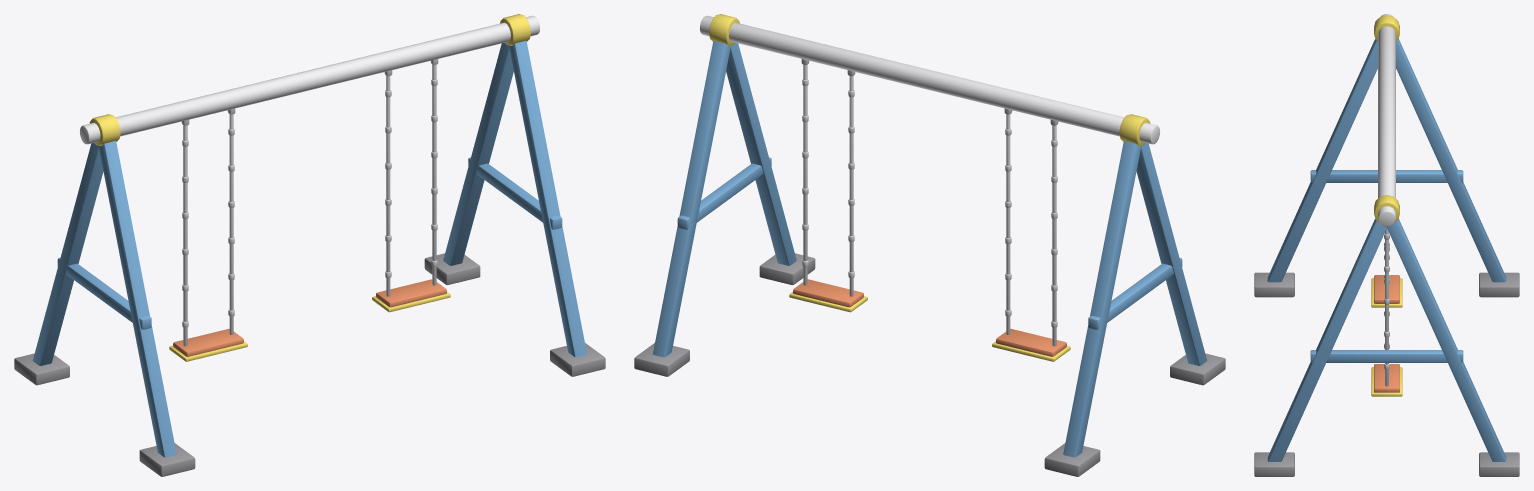
The model's file is th16_schaukel.glb.
The picture shows the model from 3 angles, left to right: view 1: azimuth 30°, elevation 25°; view 2: azimuth 150°, elevation 25°; view 3: azimuth 270°, elevation 25°; orthographic projection. The views are drawn at different scales.
Visible parts, largest first — view 1: Cylinder, Cube, Cube.005, Cube.007, Cube.002, Cube.009, Cube.004, Cube.001, Cube.006, Cube.003, Cube.014, Cube.010 (+7 smaller); view 2: Cylinder, Cube.002, Cube.007, Cube.005, Cube, Cube.009, Cube.004, Cube.003, Cube.008, Cube.001, Cube.014, Cube.010 (+7 smaller); view 3: Cube.005, Cube.007, Cube, Cube.002, Cylinder, Cube.009, Cube.004, Cube.001, Cube.003, Cube.006, Cube.008, Cube.014 (+5 smaller).
Part boxes in pixels (x1,y1,x2,y2): Cylinder: (79,15,539,144); Cube: (98,141,176,457); Cube.005: (509,40,587,357); Cube.007: (443,43,513,265); Cube.002: (32,143,103,365); Cube.009: (468,157,562,229); Cube.004: (57,258,151,329); Cube.001: (139,443,195,476); Cube.006: (550,343,605,376); Cube.003: (14,353,69,385); Cube.014: (376,279,446,307); Cube.010: (173,329,243,356); Cylinder: (700,15,1160,144); Cube.002: (1063,141,1141,457); Cube.007: (652,40,730,357); Cube.005: (726,43,796,265); Cube: (1136,143,1207,365); Cube.009: (677,157,771,229); Cube.004: (1088,258,1182,329); Cube.003: (1044,443,1100,476); Cube.008: (634,343,689,376); Cube.001: (1170,353,1225,385); Cube.014: (793,279,863,307); Cube.010: (996,329,1066,356); Cube.005: (1267,219,1386,461); Cube.007: (1387,219,1506,461); Cube: (1267,39,1377,282); Cube.002: (1396,39,1506,282); Cylinder: (1378,14,1395,226); Cube.009: (1310,350,1463,362); Cube.004: (1310,170,1463,182); Cube.001: (1254,272,1294,297); Cube.003: (1479,272,1519,297); Cube.006: (1254,452,1294,476); Cube.008: (1479,452,1519,476); Cube.014: (1374,364,1399,392).
Size of the model in its own units: 3.92 by 2.53 by 2.22.
